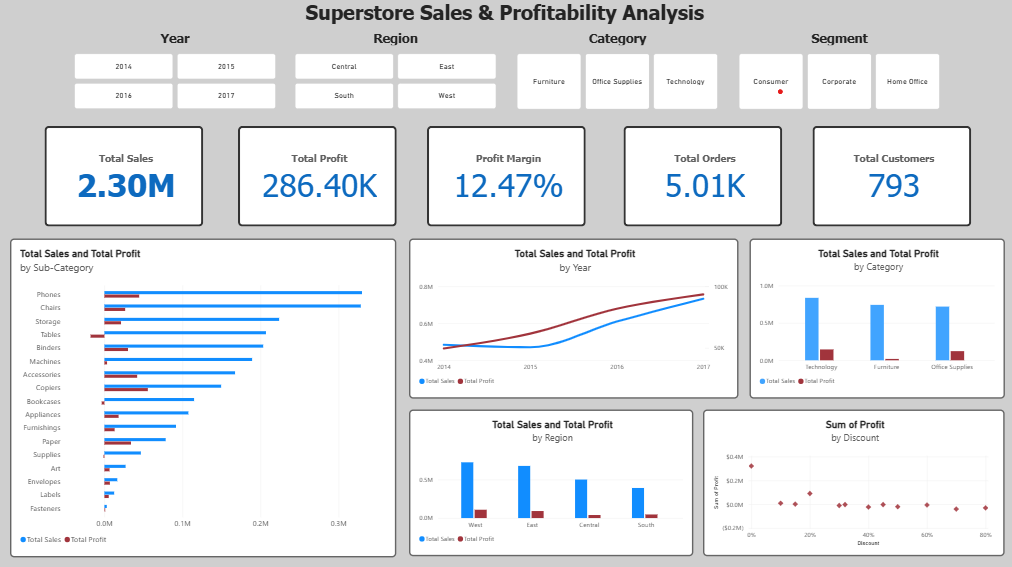

The dashboard page shown, as its layout file describes it:
{"tool":"powerbi","page":{"name":"Page 1","canvas":[1920,1080],"ordinal":0},"visuals":[{"type":"cardVisual","fields":{"Data":["superstore_cleaned_dataset.Total Sales"]},"box":[87.5,237.5,300,190],"z":0},{"type":"cardVisual","fields":{"Data":["superstore_cleaned_dataset.Total Profit"]},"box":[452.5,237.5,300,190],"z":1000},{"type":"cardVisual","fields":{"Data":["superstore_cleaned_dataset.Profit Margin"]},"box":[810,237.5,300,190],"z":2000},{"type":"cardVisual","fields":{"Data":["superstore_cleaned_dataset.Total Orders","superstore_cleaned_dataset.Total Orders"]},"box":[1182.5,237.5,300,190],"z":3000},{"type":"cardVisual","fields":{"Data":["superstore_cleaned_dataset.Total Customers"]},"box":[1540,237.5,300,190],"z":4000},{"type":"lineChart","fields":{"Category":["superstore_cleaned_dataset.Year"],"Y":["superstore_cleaned_dataset.Total Sales"],"Y2":["superstore_cleaned_dataset.Total Profit"]},"box":[777.5,450,622.5,302.5],"z":5000},{"type":"clusteredColumnChart","fields":{"Category":["superstore_cleaned_dataset.Category"],"Y":["superstore_cleaned_dataset.Total Sales","superstore_cleaned_dataset.Total Profit"]},"box":[1420,450,482.5,302.5],"z":6000},{"type":"clusteredColumnChart","fields":{"Category":["superstore_cleaned_dataset.Region"],"Y":["superstore_cleaned_dataset.Total Sales","superstore_cleaned_dataset.Total Profit"]},"box":[777.5,775,537.5,277.5],"z":7000},{"type":"scatterChart","fields":{"X":["superstore_cleaned_dataset.Discount"],"Y":["Sum(superstore_cleaned_dataset.Profit)"]},"box":[1332.5,775,570,277.5],"z":8000},{"type":"clusteredBarChart","fields":{"Category":["superstore_cleaned_dataset.Sub-Category"],"Y":["superstore_cleaned_dataset.Total Sales","superstore_cleaned_dataset.Total Profit"]},"box":[22.5,450,730,602.5],"z":9000},{"type":"advancedSlicerVisual","fields":{"Values":["superstore_cleaned_dataset.Year"]},"box":[145,57.5,380,150],"z":10000},{"type":"advancedSlicerVisual","fields":{"Values":["superstore_cleaned_dataset.Region"]},"box":[562.5,57.5,380,150],"z":11000},{"type":"advancedSlicerVisual","fields":{"Values":["superstore_cleaned_dataset.Category"]},"box":[980,57.5,380,150],"z":12000},{"type":"advancedSlicerVisual","fields":{"Values":["superstore_cleaned_dataset.Segment"]},"box":[1400,57.5,380,150],"z":13000},{"type":"textbox","box":[573.3,0,770,113.3],"z":14000}]}

Visuals, with their boxes in screenshot pixels (x1, y1, x2, y2), scaled from the page's 1920x1080 canvas onto the 1012x567 screenshot:
cardVisual - superstore_cleaned_dataset.Total Sales: select_region(46, 125, 204, 224)
cardVisual - superstore_cleaned_dataset.Total Profit: select_region(239, 125, 397, 224)
cardVisual - superstore_cleaned_dataset.Profit Margin: select_region(427, 125, 585, 224)
cardVisual - superstore_cleaned_dataset.Total Orders x superstore_cleaned_dataset.Total Orders: select_region(623, 125, 781, 224)
cardVisual - superstore_cleaned_dataset.Total Customers: select_region(812, 125, 970, 224)
lineChart - superstore_cleaned_dataset.Year x superstore_cleaned_dataset.Total Sales: select_region(410, 236, 738, 395)
clusteredColumnChart - superstore_cleaned_dataset.Category x superstore_cleaned_dataset.Total Sales: select_region(748, 236, 1003, 395)
clusteredColumnChart - superstore_cleaned_dataset.Region x superstore_cleaned_dataset.Total Sales: select_region(410, 407, 693, 553)
scatterChart - superstore_cleaned_dataset.Discount x Sum(superstore_cleaned_dataset.Profit): select_region(702, 407, 1003, 553)
clusteredBarChart - superstore_cleaned_dataset.Sub-Category x superstore_cleaned_dataset.Total Sales: select_region(12, 236, 397, 553)
advancedSlicerVisual - superstore_cleaned_dataset.Year: select_region(76, 30, 277, 109)
advancedSlicerVisual - superstore_cleaned_dataset.Region: select_region(296, 30, 497, 109)
advancedSlicerVisual - superstore_cleaned_dataset.Category: select_region(517, 30, 717, 109)
advancedSlicerVisual - superstore_cleaned_dataset.Segment: select_region(738, 30, 938, 109)
textbox: select_region(302, 0, 708, 59)
